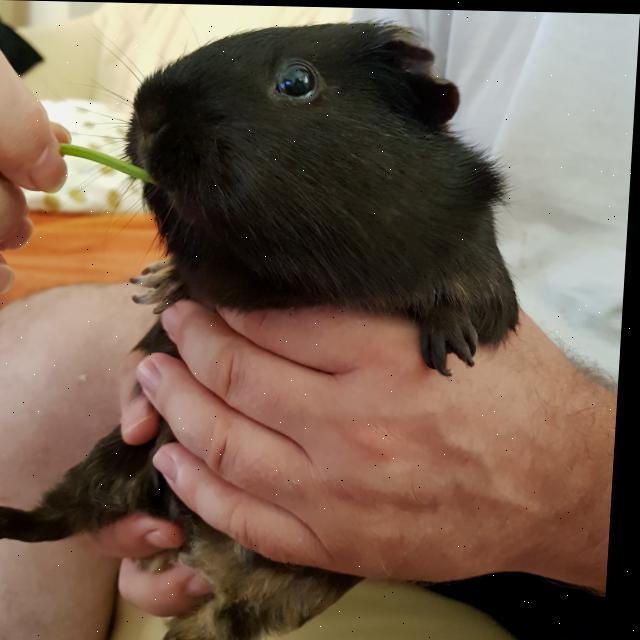guinea pig: (0, 11, 537, 640)
